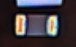COMP: (11, 11, 62, 40)
GAP: (15, 1, 58, 26)
